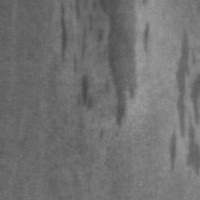inclusion: (91, 0, 153, 130), (166, 29, 199, 178), (58, 0, 97, 67), (72, 69, 98, 113)
